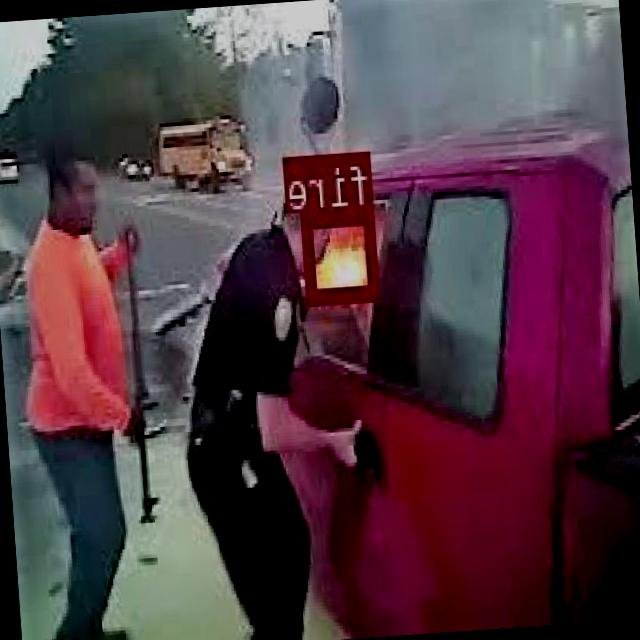fire: (303, 204, 382, 300)
